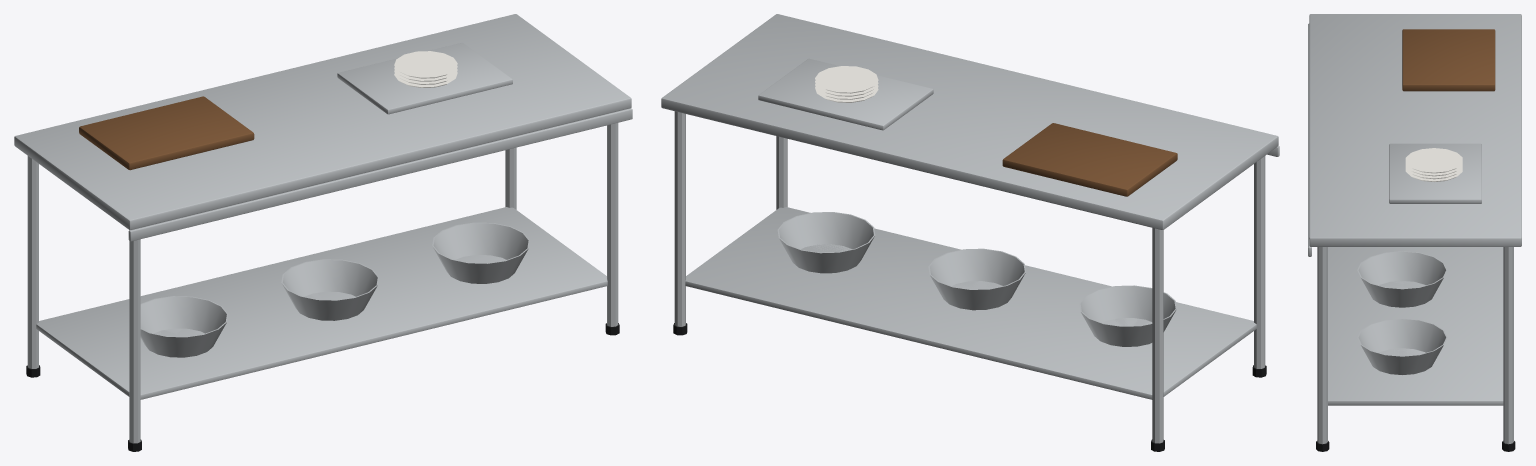
File: kitchen_counter.glb
3 renders of one model, left to right at view 1: azimuth 30°, elevation 25°; view 2: azimuth 150°, elevation 25°; view 3: azimuth 270°, elevation 25°, orthographic. The views are drawn at different scales.
Visible parts, largest first — view 1: kitchen_counter; view 2: kitchen_counter; view 3: kitchen_counter.
Boxes of the visible parts, bbox=[...] form: kitchen_counter: bbox=[14, 14, 632, 451]; kitchen_counter: bbox=[661, 14, 1279, 451]; kitchen_counter: bbox=[1308, 14, 1521, 451].
Bounding box in the file's own units: 2 × 0.966 × 0.805.
